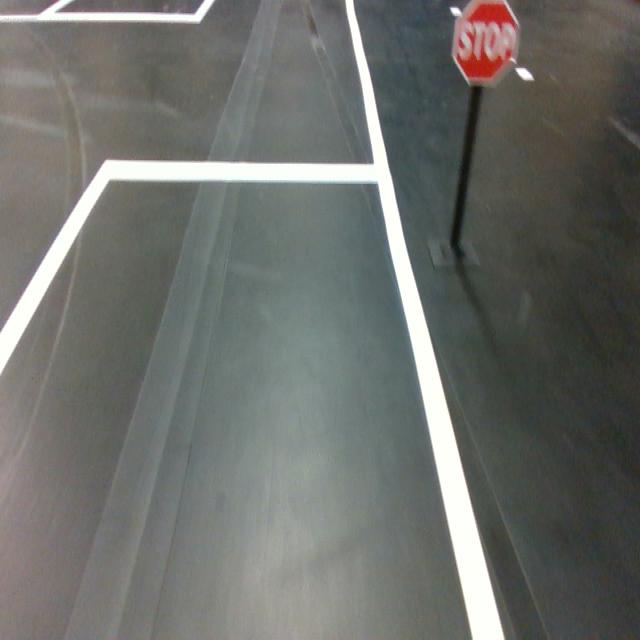stop-sign: (451, 0, 522, 88)
